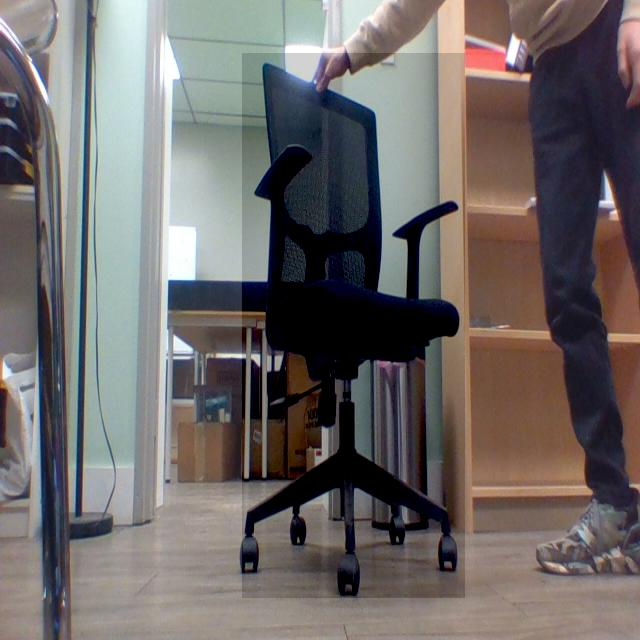black-chair: (242, 53, 466, 599)
